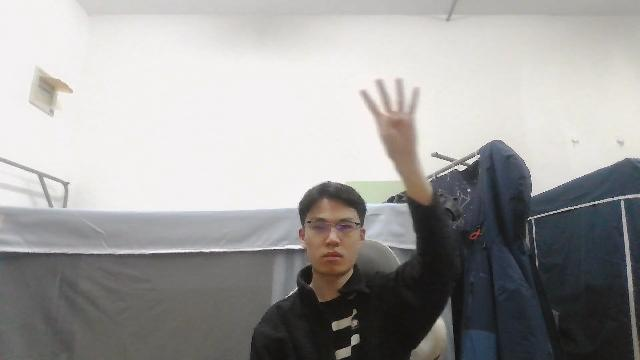four: (355, 71, 427, 175)
